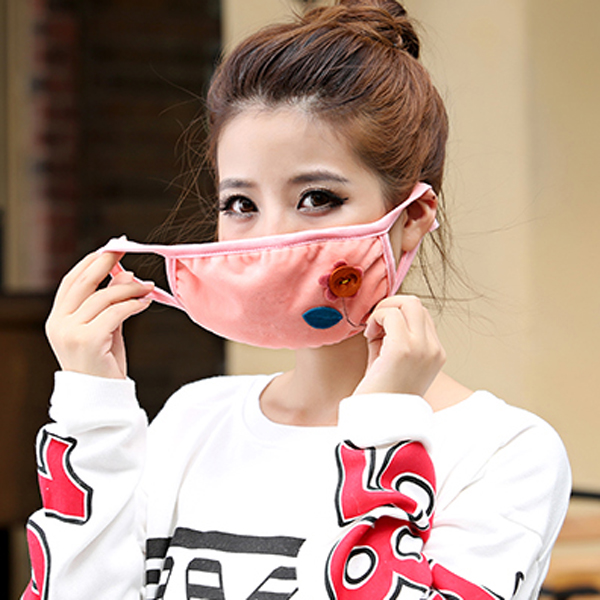face_mask: (203, 99, 398, 359)
